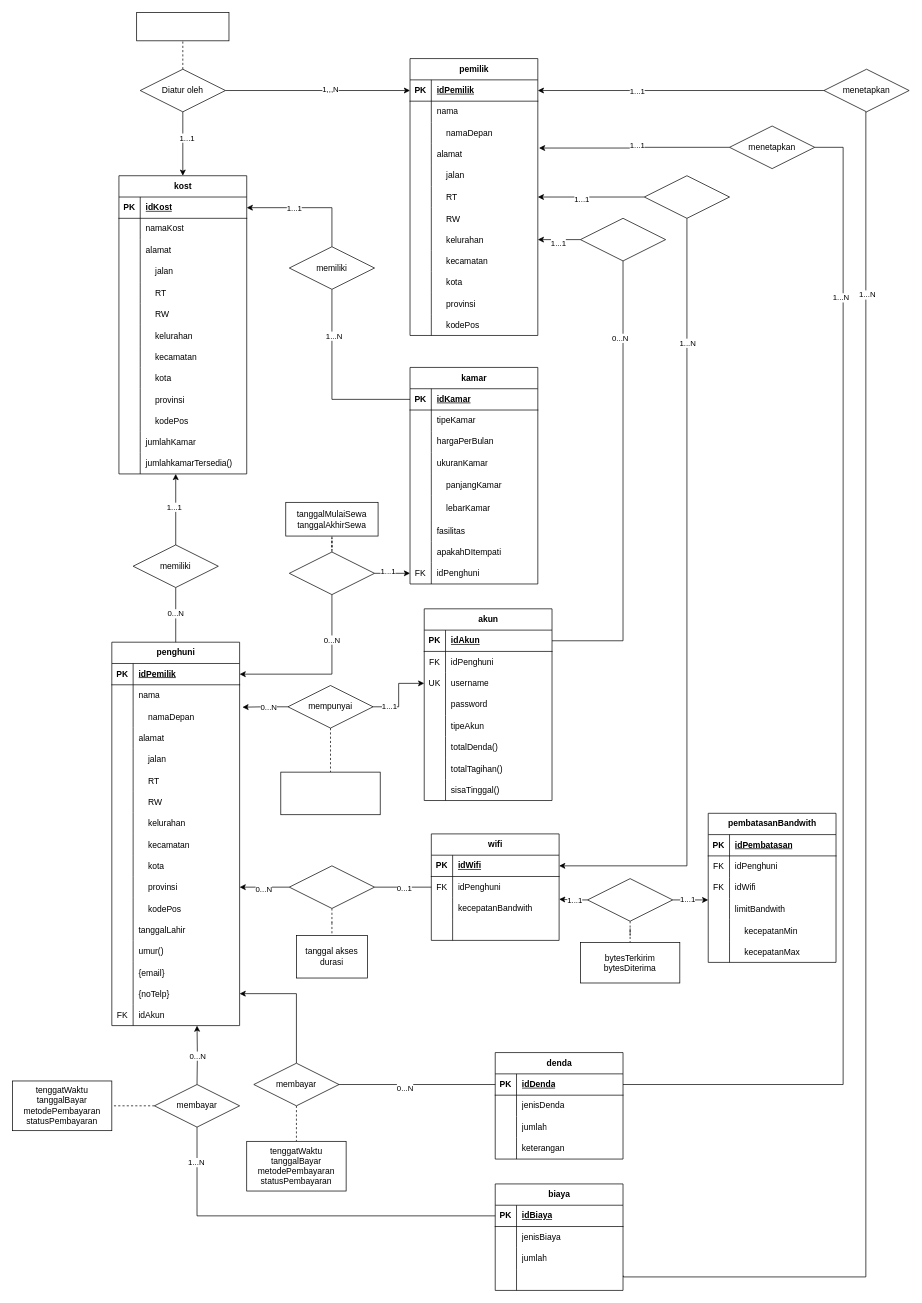
Image size: 922x1303. Some labels were removed from this diagram. Here are the shapes that lost their labels. From the top down, the centre of each, then its label:
(182,26): {dokumenPendukung}
(687,196): mengatur
(623,239): mengelola
(332,573): menyewa
(330,793): tanggalPembuatan tanggalAkses
(332,886): mengakses
(630,899): dibatasi oleh
